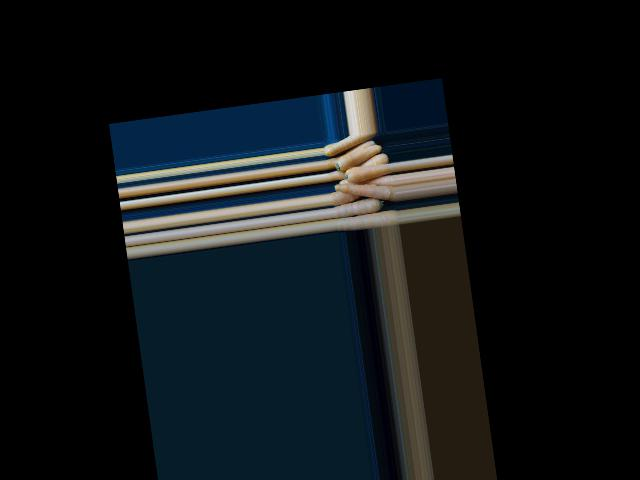carrot: (333, 209, 397, 232)
